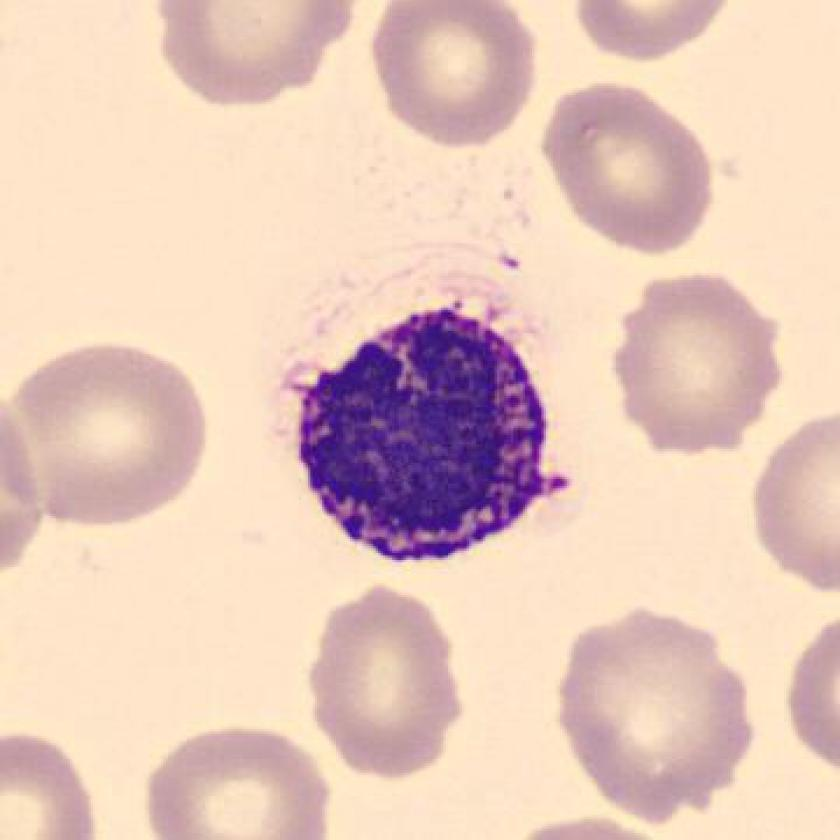basophil: (283, 300, 566, 580)
